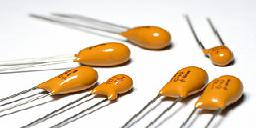Electrolytic Capacitor: (193, 73, 247, 120), (38, 64, 99, 99), (158, 62, 210, 103), (71, 41, 145, 67), (122, 23, 171, 53), (93, 72, 138, 98), (203, 43, 242, 73)
